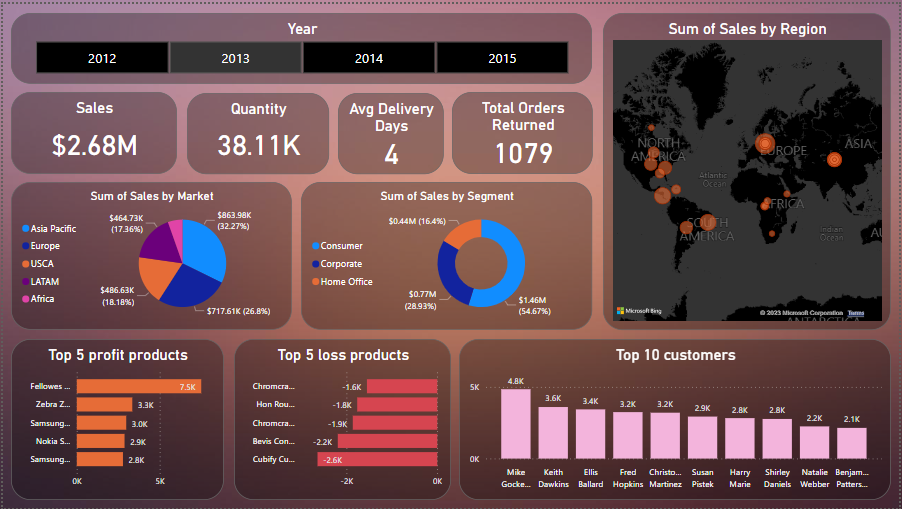

The dashboard page shown, as its layout file describes it:
{"tool":"powerbi","page":{"name":"Page 1","canvas":[1280,720],"ordinal":0},"visuals":[{"type":"card","title":"Sales","fields":{"Values":["Sum(Orders.Sales)"]},"box":[11.7,125.8,236.5,117.4],"z":0},{"type":"card","title":"Quantity","fields":{"Values":["Sum(Orders.Quantity)"]},"box":[263.4,127.5,203,115.8],"z":1000},{"type":"card","title":"Avg Delivery Days","fields":{"Values":["Avg(Orders.Delivery Days)"]},"box":[478.1,127.5,151,115.8],"z":2000},{"type":"slicer","title":"Year","fields":{"Values":["Orders.Year"]},"box":[11.7,13.4,830.4,100.7],"z":3000},{"type":"card","title":"Total Orders Returned","fields":{"Values":["Sum(Returns.Return Orders)"]},"box":[640.8,125.8,201.3,117.4],"z":4000},{"type":"map","fields":{"Size":["Sum(Orders.Sales)"],"Category":["Orders.Region"]},"box":[857.2,13.4,411,452.9],"z":5000},{"type":"barChart","title":"Top 5 profit products","fields":{"Y":["Sum(Orders.Profit)"],"Category":["Orders.Product Name"]},"box":[640.8,478.1,303.6,229.8],"z":6000},{"type":"barChart","title":"Top 5 loss products","fields":{"Y":["Sum(Orders.Profit)"],"Category":["Orders.Product Name"]},"box":[957.9,478.1,310.4,229.8],"z":7000},{"type":"pieChart","fields":{"Y":["Sum(Orders.Sales)"],"Category":["Orders.Market"]},"box":[441.2,255,400.9,211.4],"z":8000},{"type":"donutChart","fields":{"Category":["Orders.Segment"],"Y":["Sum(Orders.Sales)"]},"box":[11.7,255,416,211.4],"z":9000},{"type":"columnChart","title":"Top 10 customers","fields":{"Y":["Sum(Orders.Profit)"],"Category":["Orders.Customer Name"]},"box":[11.7,478.1,617.4,229.8],"z":10000}]}

Visuals, with their boxes in screenshot pixels (x1, y1, x2, y2), scaled from the page's 1280x720 canvas onto the 902x509 screenshot:
"Sales" card: <bbox>8, 89, 175, 172</bbox>
"Quantity" card: <bbox>186, 90, 329, 172</bbox>
"Avg Delivery Days" card: <bbox>337, 90, 443, 172</bbox>
"Year" slicer: <bbox>8, 9, 593, 81</bbox>
"Total Orders Returned" card: <bbox>452, 89, 593, 172</bbox>
map - Sum(Orders.Sales) x Orders.Region: <bbox>604, 9, 894, 330</bbox>
"Top 5 profit products" barChart: <bbox>452, 338, 666, 500</bbox>
"Top 5 loss products" barChart: <bbox>675, 338, 894, 500</bbox>
pieChart - Sum(Orders.Sales) x Orders.Market: <bbox>311, 180, 593, 330</bbox>
donutChart - Orders.Segment x Sum(Orders.Sales): <bbox>8, 180, 301, 330</bbox>
"Top 10 customers" columnChart: <bbox>8, 338, 443, 500</bbox>
